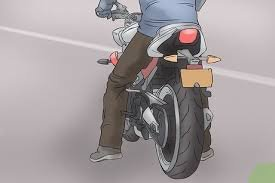motor: (99, 20, 226, 183)
